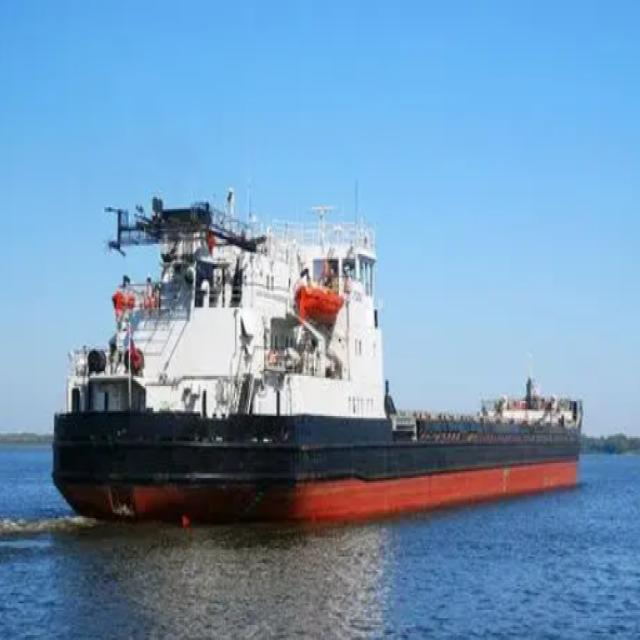cargoship: (50, 186, 587, 538)
